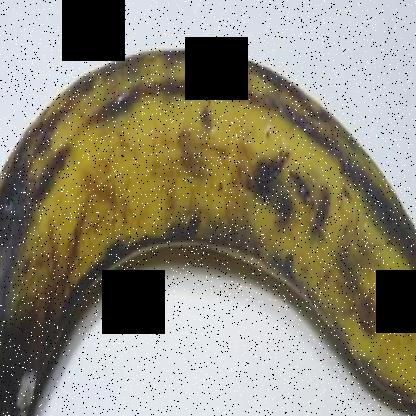overripe: (0, 25, 415, 415)
rotten: (0, 168, 108, 415)
